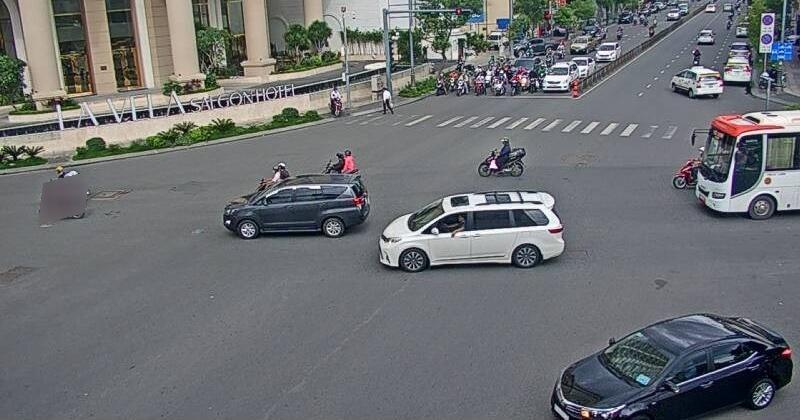xe buyt: (694, 107, 800, 218)
xe hoi: (550, 314, 794, 420), (378, 190, 563, 272), (221, 175, 364, 238)
xe may: (476, 136, 525, 178), (38, 177, 86, 219), (671, 147, 702, 189)
